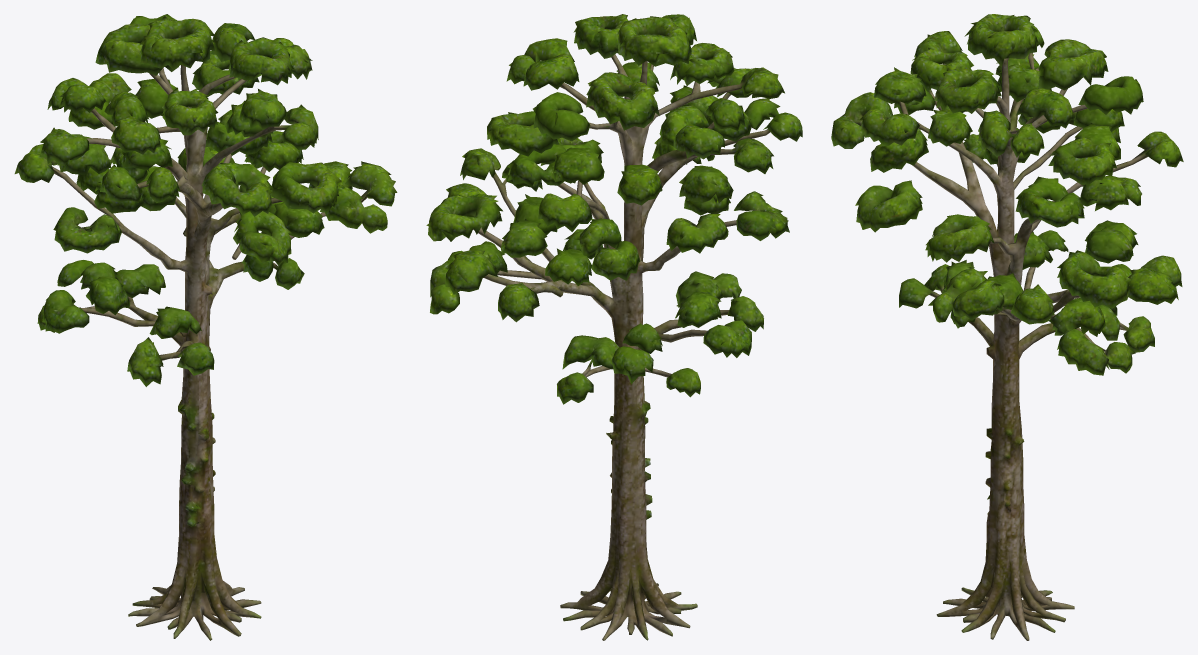
Rendered from VEG_ArbolTropical_03_LOD0.fbx.
3 views of the same model, side by side, from view 1: azimuth 30°, elevation 25°; view 2: azimuth 150°, elevation 25°; view 3: azimuth 270°, elevation 25° (orthographic).
Visible parts, largest first — view 1: VEG_ArbolTropical_03_Mesh000; view 2: VEG_ArbolTropical_03_Mesh000; view 3: VEG_ArbolTropical_03_Mesh000.
Boxes of the visible parts, x1,y1,x2,y2 form: VEG_ArbolTropical_03_Mesh000: (14, 14, 397, 640); VEG_ArbolTropical_03_Mesh000: (426, 14, 802, 640); VEG_ArbolTropical_03_Mesh000: (831, 14, 1183, 640).
Size of the model in its own units: 11.04 by 19 by 10.45.
